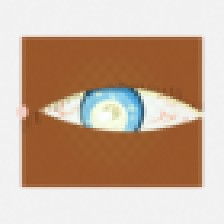corneal_ulcer: (78, 93, 140, 143)
